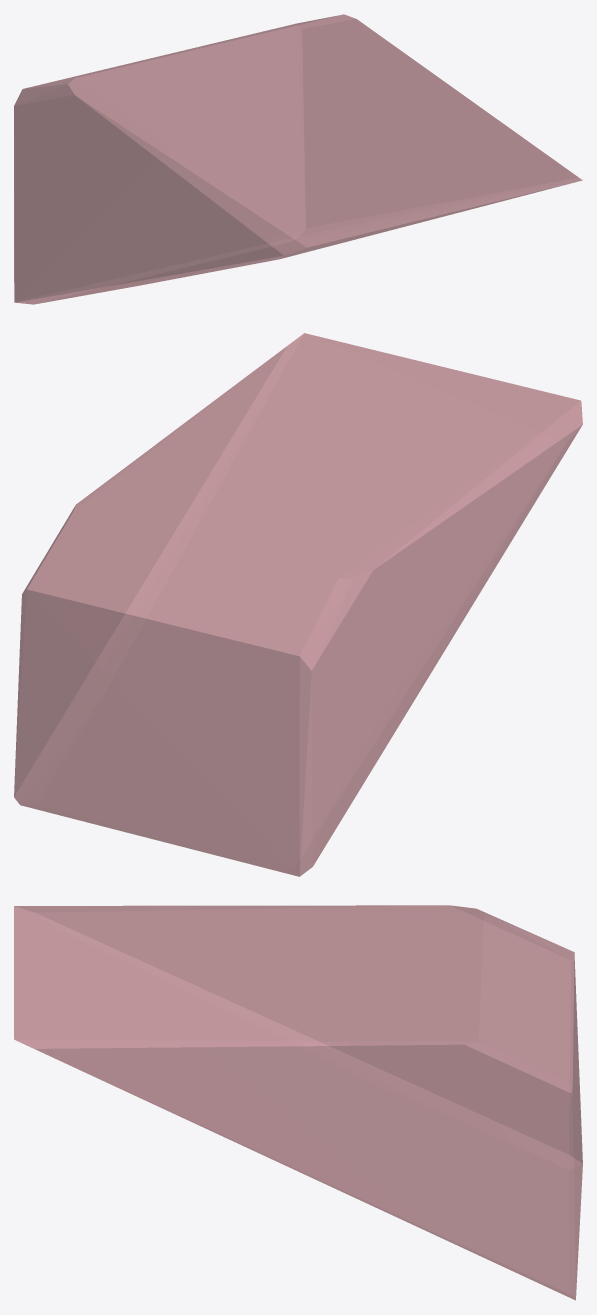
3 renders of one model, top to bottom at view 1: azimuth 30°, elevation 25°; view 2: azimuth 150°, elevation 25°; view 3: azimuth 270°, elevation 25°, orthographic.
Parts seen in each view (by area): view 1: Shape_IndexedFaceSet.004_Shape_IndexedFaceSet.16583; view 2: Shape_IndexedFaceSet.004_Shape_IndexedFaceSet.16583; view 3: Shape_IndexedFaceSet.004_Shape_IndexedFaceSet.16583.
Boxes of the visible parts, bbox=[...] form: Shape_IndexedFaceSet.004_Shape_IndexedFaceSet.16583: bbox=[14, 14, 582, 304]; Shape_IndexedFaceSet.004_Shape_IndexedFaceSet.16583: bbox=[14, 333, 582, 876]; Shape_IndexedFaceSet.004_Shape_IndexedFaceSet.16583: bbox=[14, 905, 582, 1300].
Bounding box in the file's own units: 0.1895 × 0.1619 × 0.3198.
